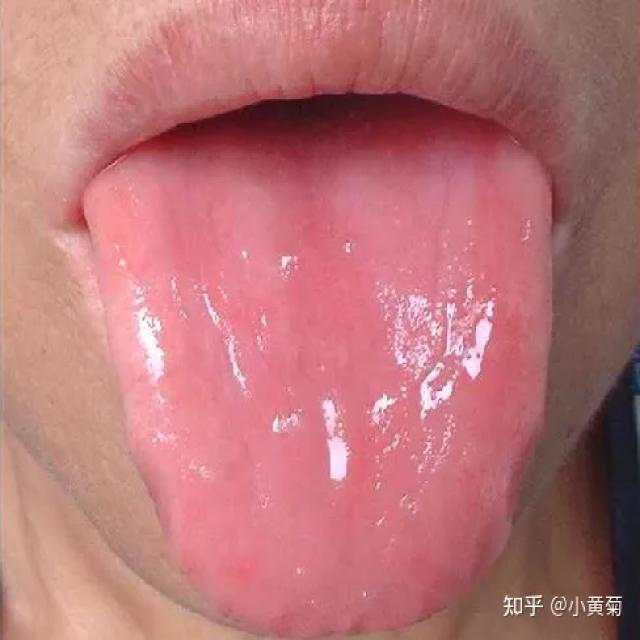tongue: (79, 139, 557, 632)
